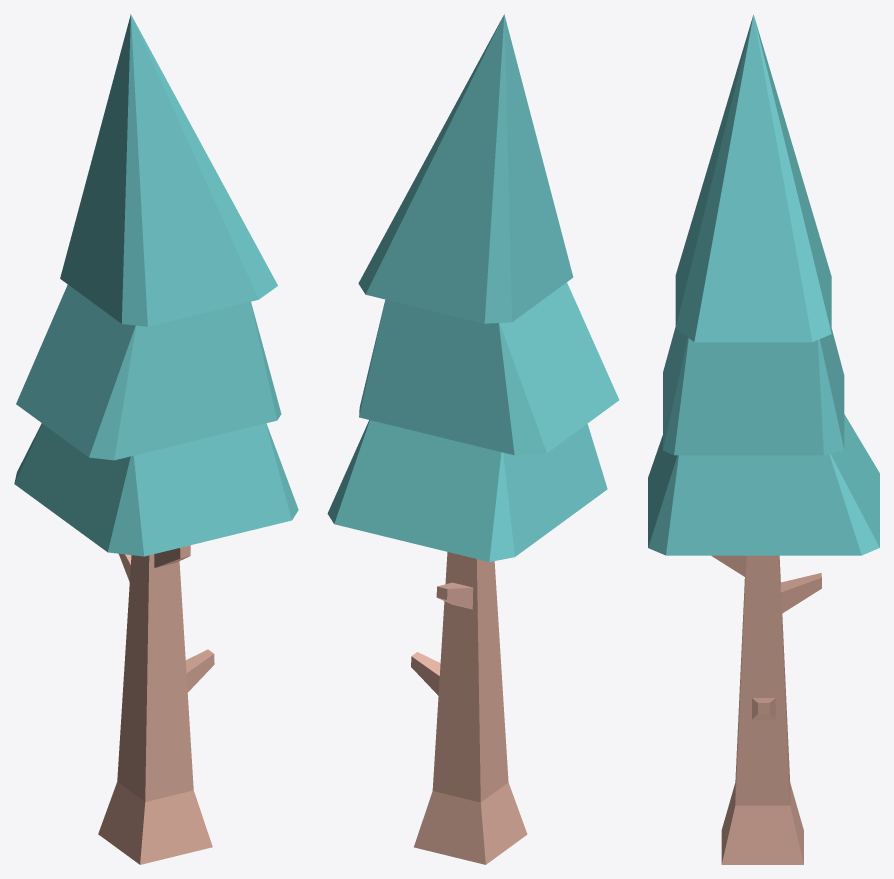
The model's file is tree_pineTallA_detailed.gltf.
3 views of the same model, side by side, from view 1: azimuth 30°, elevation 25°; view 2: azimuth 150°, elevation 25°; view 3: azimuth 270°, elevation 25° (orthographic). The views are drawn at different scales.
Parts seen in each view (by area): view 1: tree_pineTallA_detailed; view 2: tree_pineTallA_detailed; view 3: tree_pineTallA_detailed.
Boxes of the visible parts, left/top/right/bottom form: tree_pineTallA_detailed: left=14, top=14, right=298, bottom=864; tree_pineTallA_detailed: left=327, top=14, right=619, bottom=864; tree_pineTallA_detailed: left=648, top=14, right=879, bottom=864.
Bounding box in the file's own units: 0.3863 × 1.53 × 0.3919.
